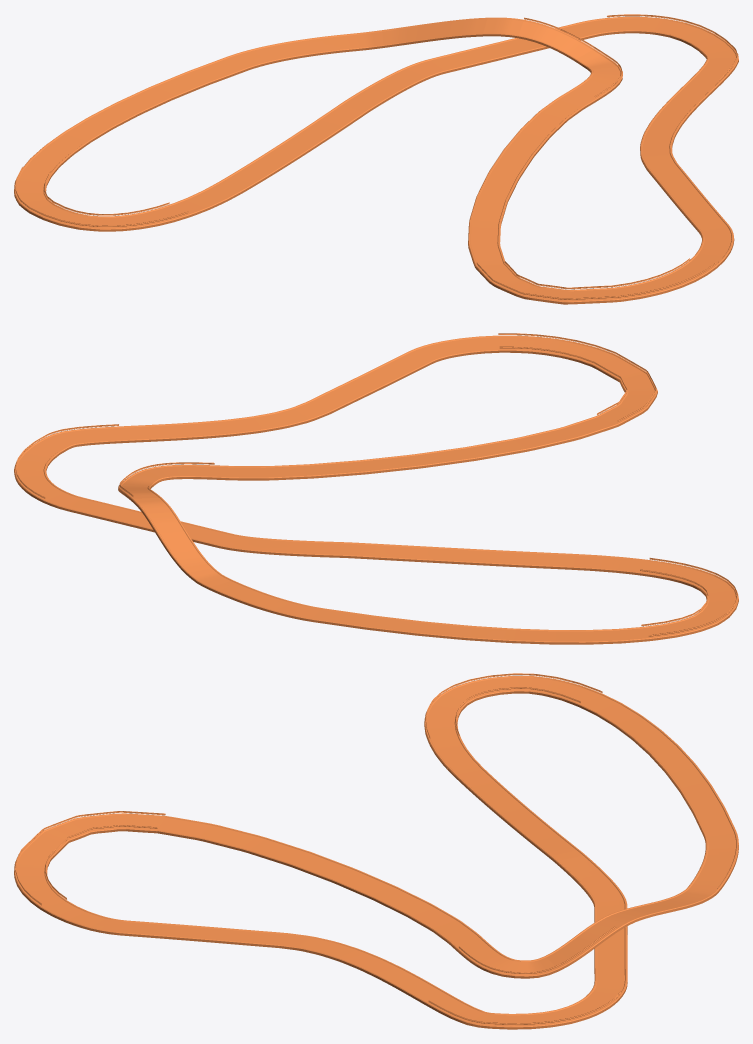
File: RACETEST_new_.fbx
3 renders of one model, top to bottom at view 1: azimuth 30°, elevation 25°; view 2: azimuth 150°, elevation 25°; view 3: azimuth 270°, elevation 25°, orthographic. The views are drawn at different scales.
Visible parts, largest first — view 1: Cube.001, Barras, barras_externas; view 2: Cube.001, Barras, barras_externas; view 3: Cube.001, barras_externas, Barras.
Part boxes in pixels (bbox=[...]): Cube.001: bbox=[14, 16, 738, 304]; Barras: bbox=[15, 14, 737, 298]; barras_externas: bbox=[15, 14, 737, 300]; Cube.001: bbox=[14, 335, 738, 644]; Barras: bbox=[15, 333, 737, 635]; barras_externas: bbox=[15, 333, 737, 636]; Cube.001: bbox=[14, 676, 738, 1029]; barras_externas: bbox=[15, 673, 621, 1025]; Barras: bbox=[15, 673, 620, 1023].
Bounding box in the file's own units: 5468 × 228 × 4771.
